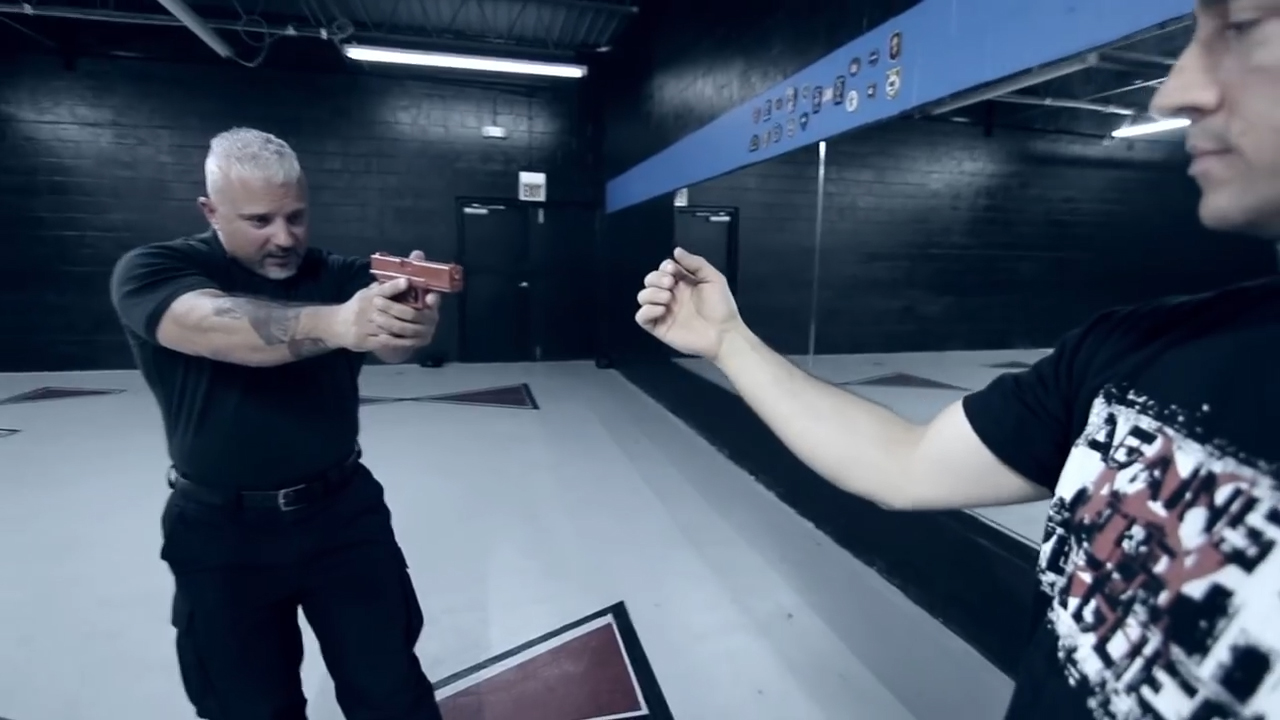pistol: (368, 249, 467, 315)
